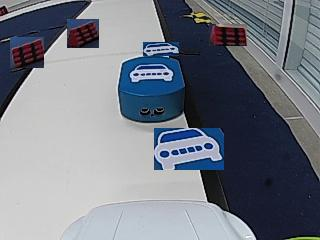safety: (129, 63, 177, 83)
